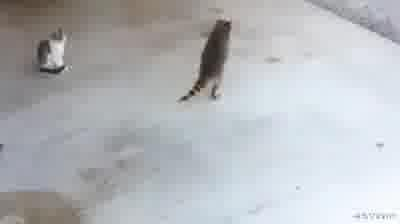raccoon: (176, 18, 237, 106)
